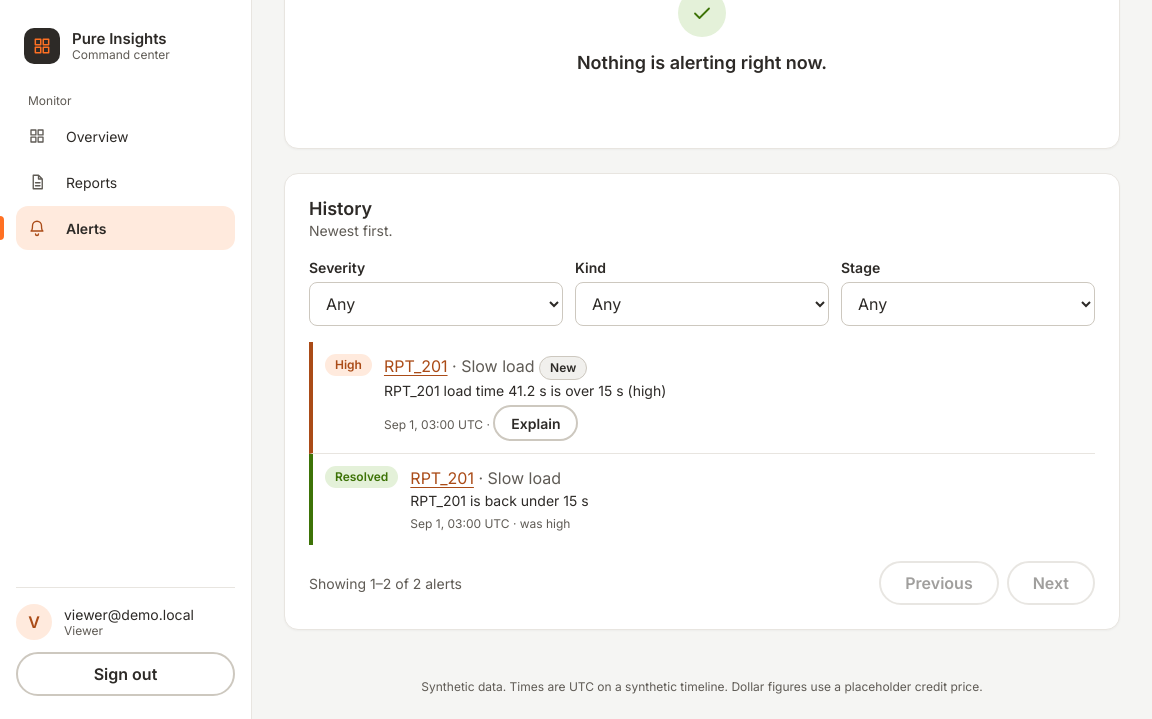
Explain this alert › an approved suggestion is shown and says a person reviewed it
(page scrolled)
Click the button with aria-label "Explain alert 1": (536, 423) [493,405,578,441]
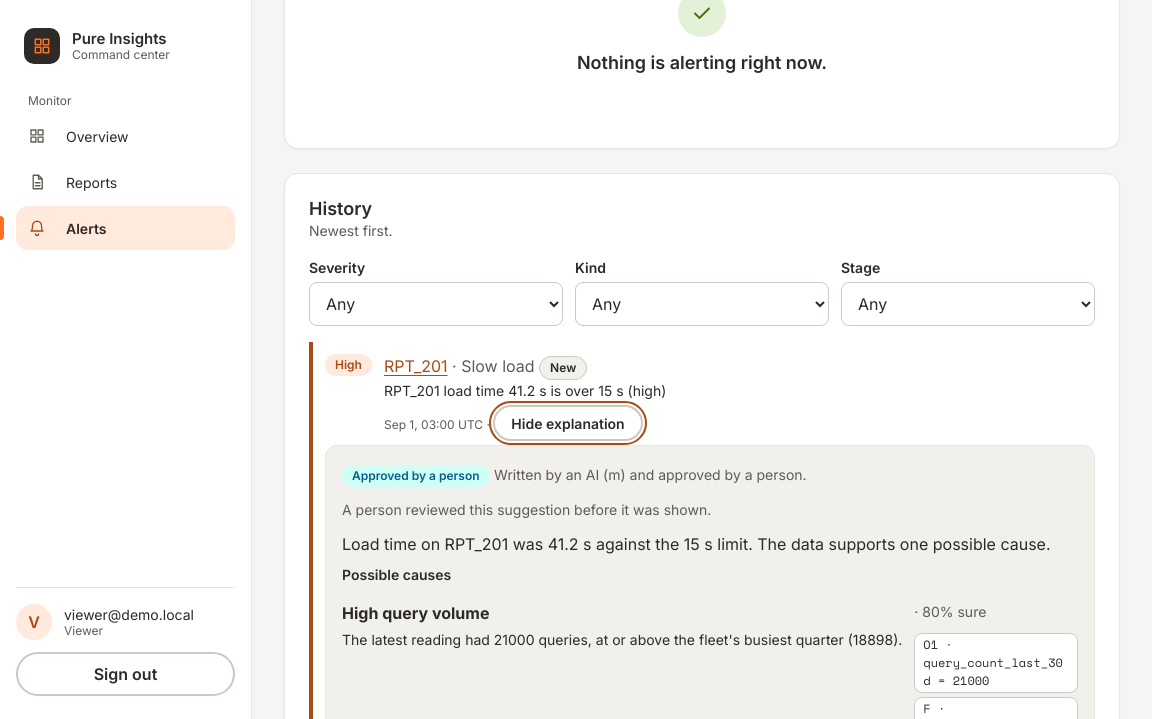
Result: the text "Approved by a person" is shown at [342,465,490,487]
Result: the text "A person reviewed this suggestion before it was shown." is shown at [342,501,711,518]
Result: the text "High query volume" is shown at [342,603,490,623]
